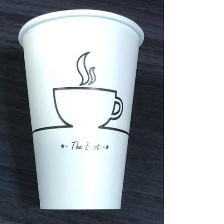paper_cup: (10, 4, 149, 215)
